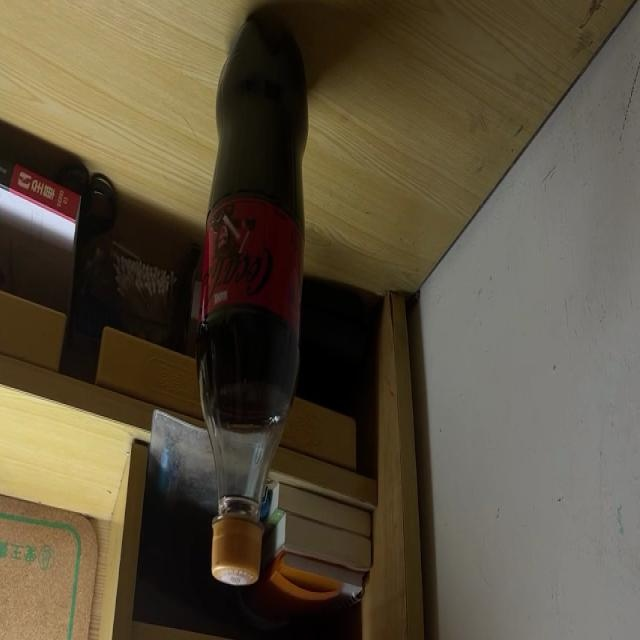Coca-Cola: (198, 17, 309, 586)
